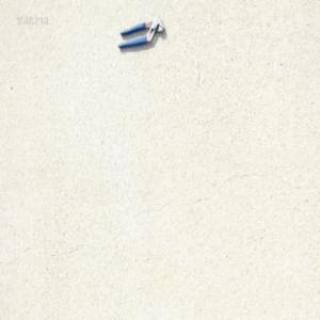Pliertrack_idkeyframe: (116, 16, 164, 49)
